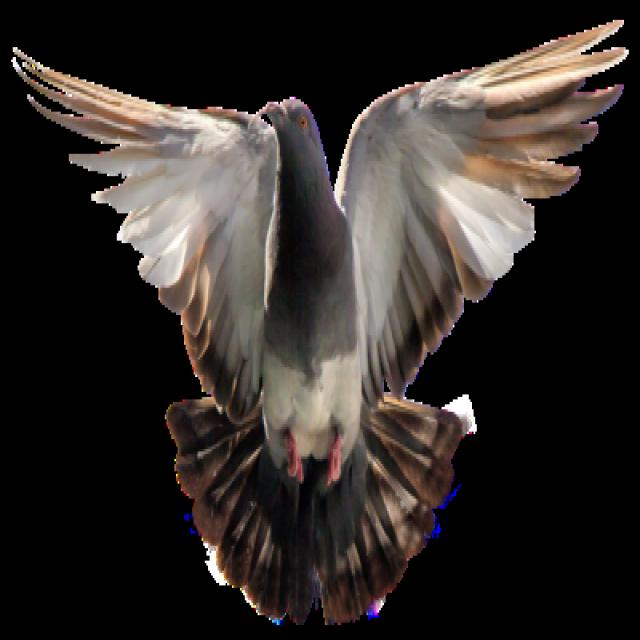birds: (7, 16, 638, 624)
